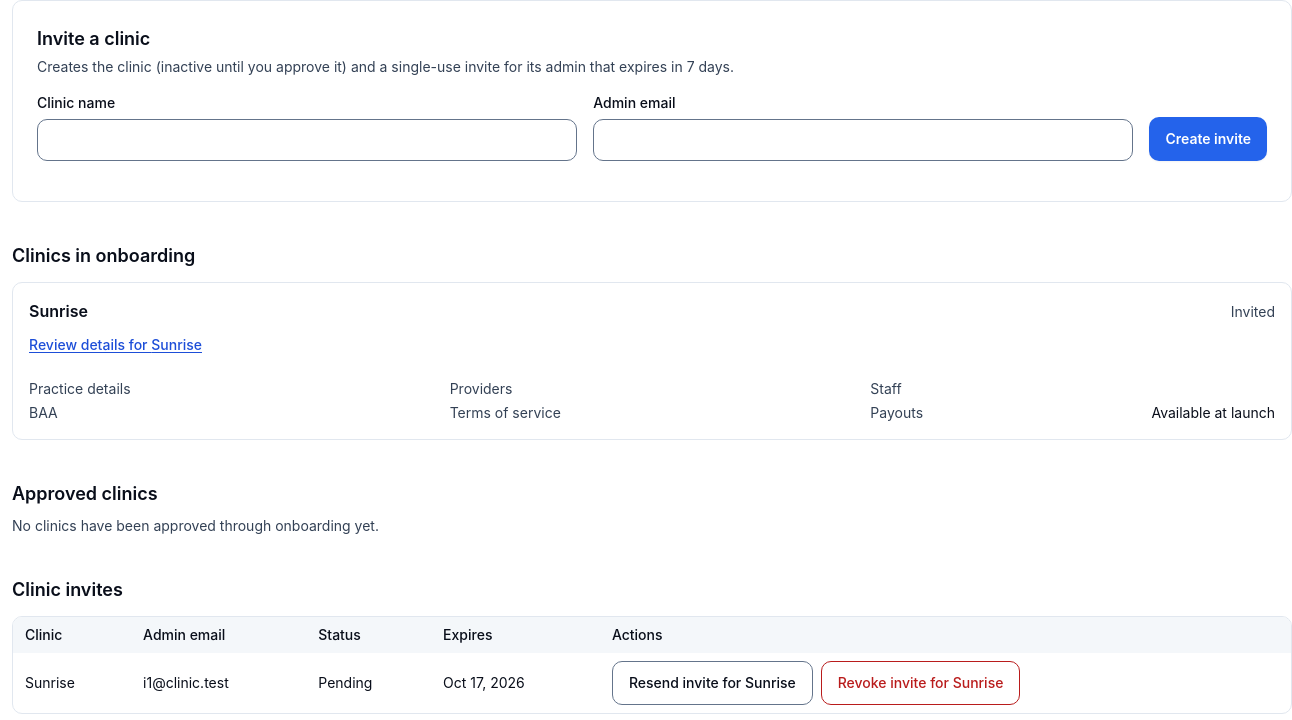
Test: resend updates the row and keeps the new link on screen
Click the button "Resend invite for Sunrise".
click(712, 683)  # box [612,661,813,705]
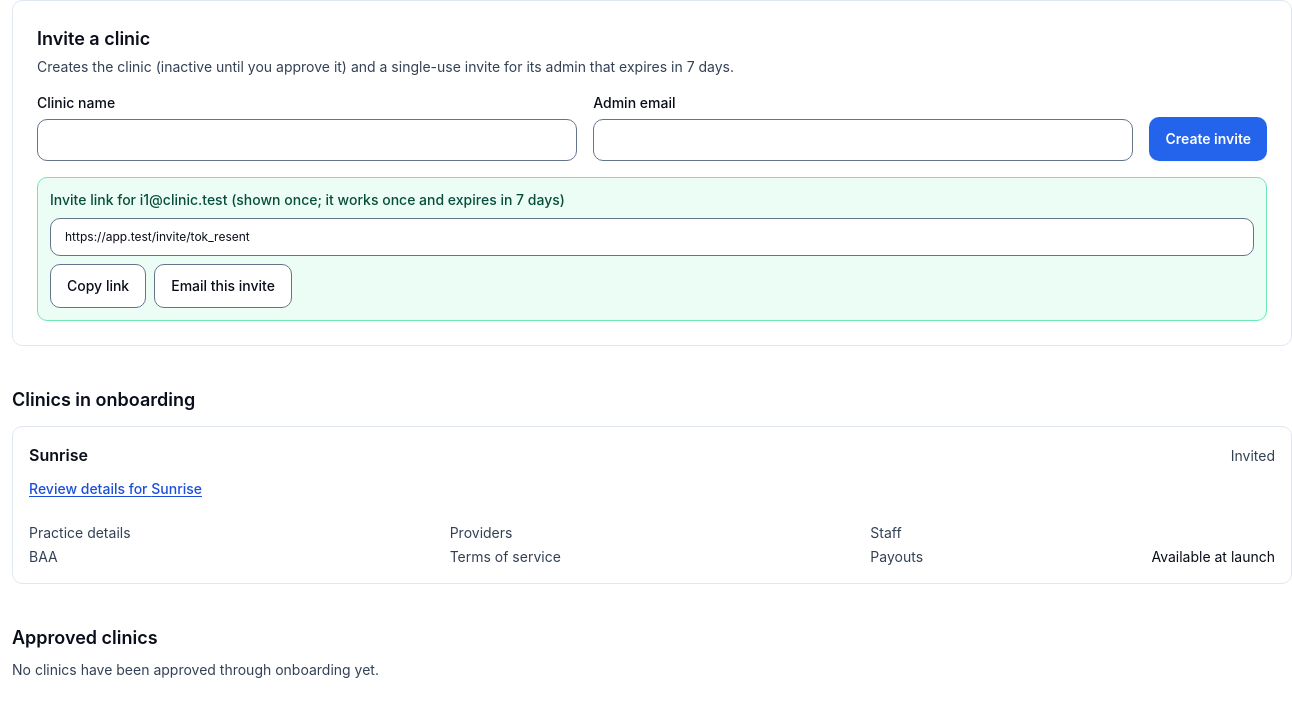
Now the field showing "https://app.test/invite/tok_resent" is shown, box [50,218,1254,256]
